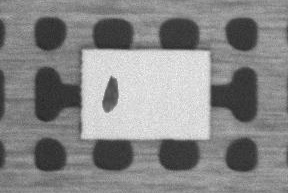DIE_INK: (100, 74, 118, 113)
